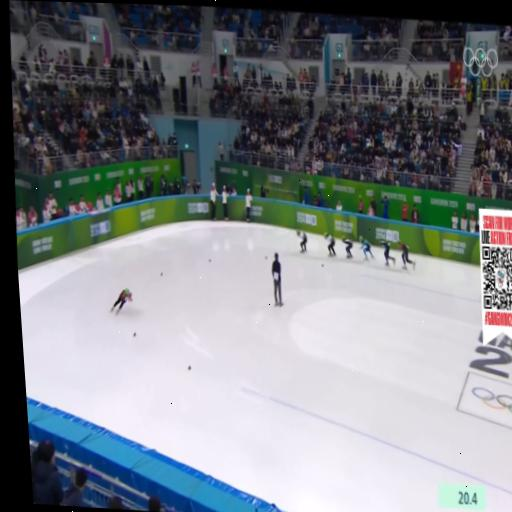Skater: (395, 237, 418, 275), (376, 236, 397, 270), (111, 288, 132, 314), (339, 233, 354, 260), (359, 236, 374, 260), (324, 232, 335, 257), (297, 230, 307, 253)
